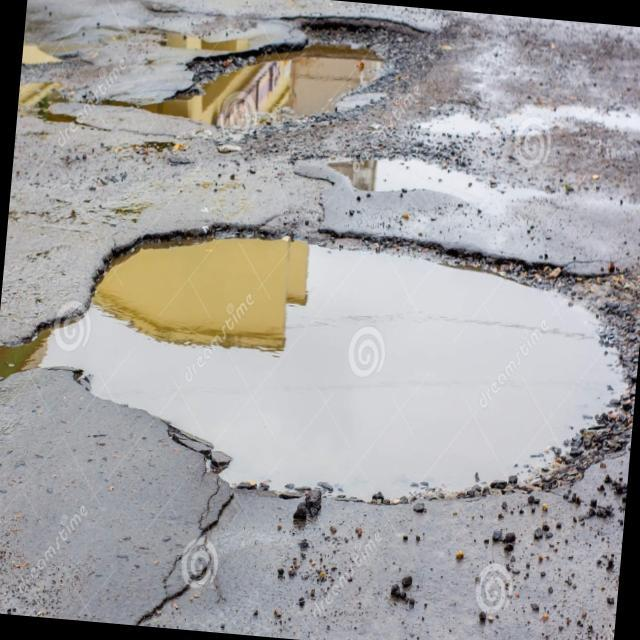Pothole: (45, 199, 640, 531), (166, 0, 412, 148)
